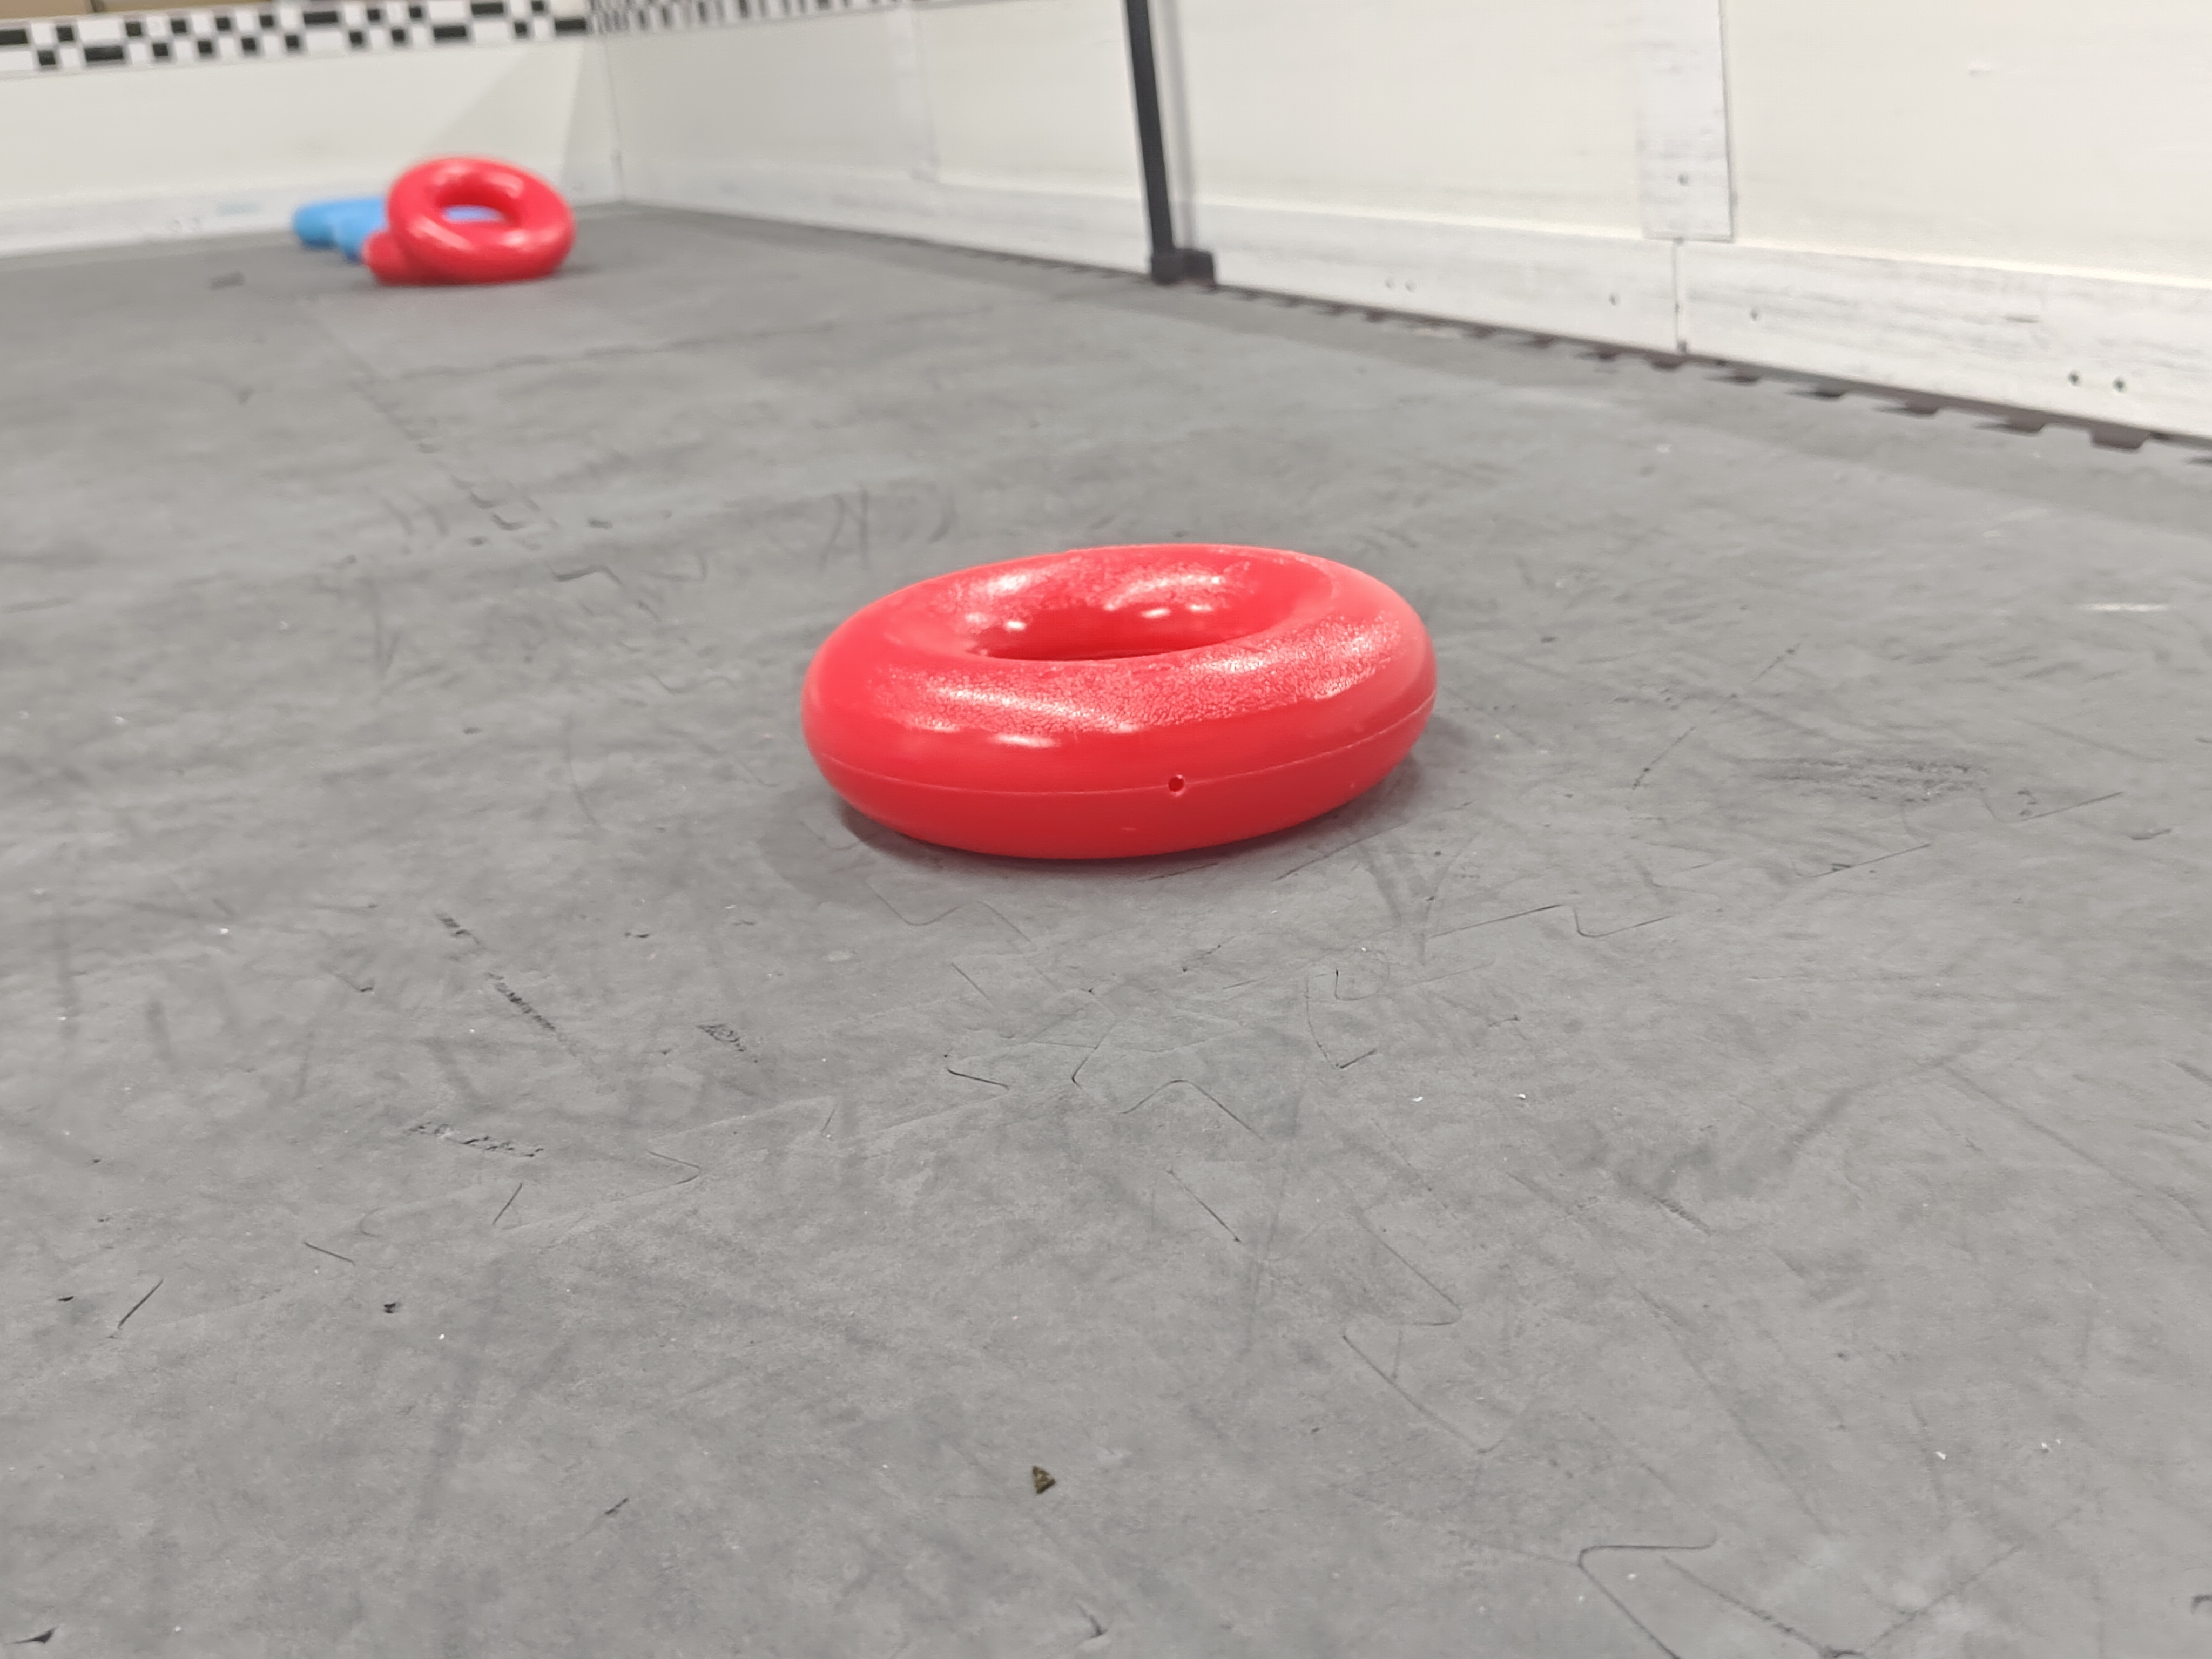blue: (300, 190, 514, 265)
red: (805, 535, 1449, 870), (385, 159, 583, 272)
